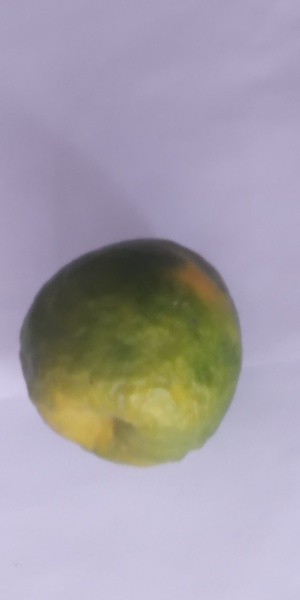BAD: (14, 234, 242, 467)
